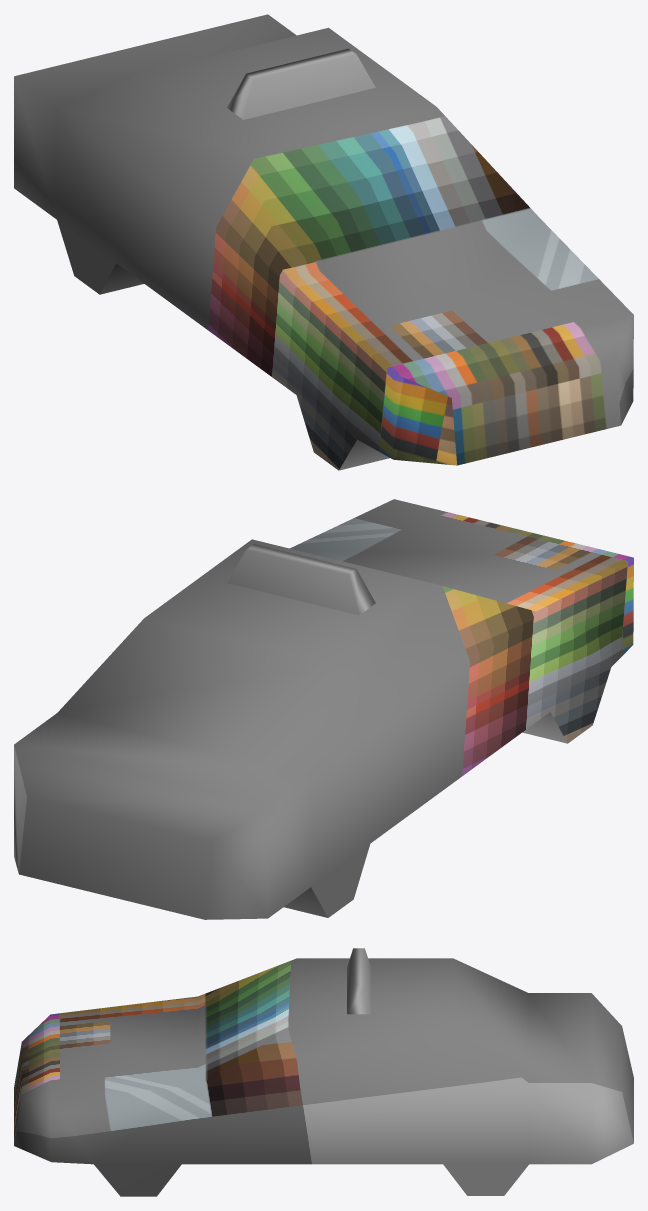
The model's file is SM_Prop_Veh_Taxi_01.fbx.
3 views of the same model, one above another, from view 1: azimuth 30°, elevation 25°; view 2: azimuth 150°, elevation 25°; view 3: azimuth 270°, elevation 25° (orthographic). The views are drawn at different scales.
Visible parts, largest first — view 1: SM_Prop_Veh_Taxi_01; view 2: SM_Prop_Veh_Taxi_01; view 3: SM_Prop_Veh_Taxi_01.
Part boxes in pixels (box(x1,y1,x2,y2)): SM_Prop_Veh_Taxi_01: box(14, 14, 633, 470); SM_Prop_Veh_Taxi_01: box(14, 499, 633, 919); SM_Prop_Veh_Taxi_01: box(14, 948, 633, 1196).
Bounding box in the file's own units: 206 × 198 × 601.
Materials: 1 (1 with a texture image).
